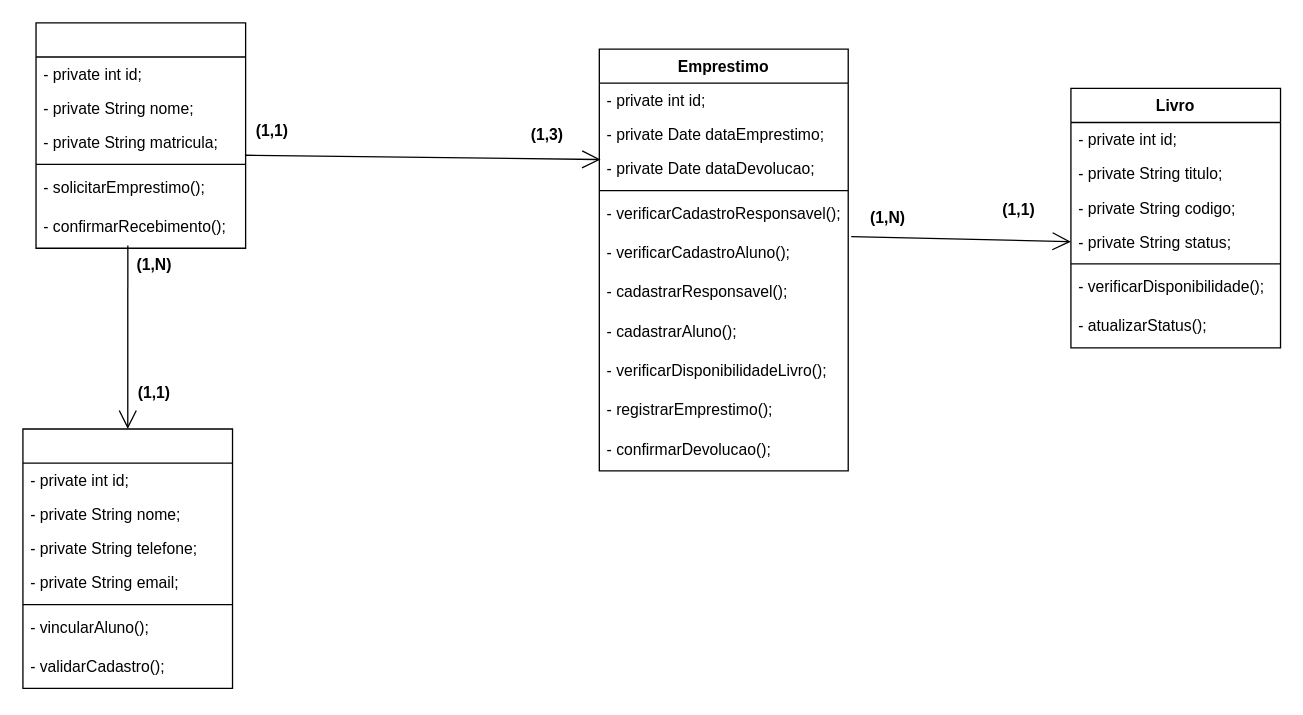
Some shapes in this 1303 by 715 pixel diagram are drawn without their labels. The box of each missing label's shape, as (x1, y1, x2, y2) in pixels:
Aluno: (35, 22, 246, 248)
Responsavel: (22, 428, 233, 688)
